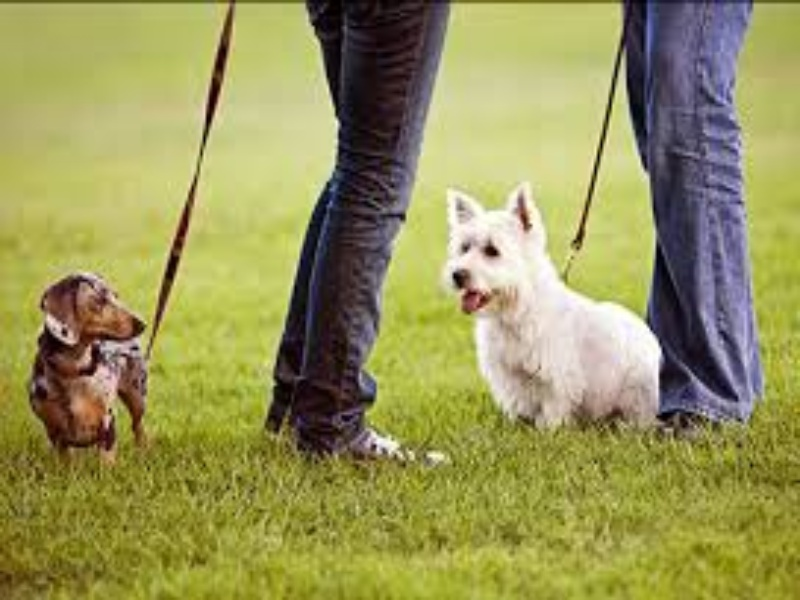dog: (445, 182, 666, 446), (24, 267, 159, 472)
